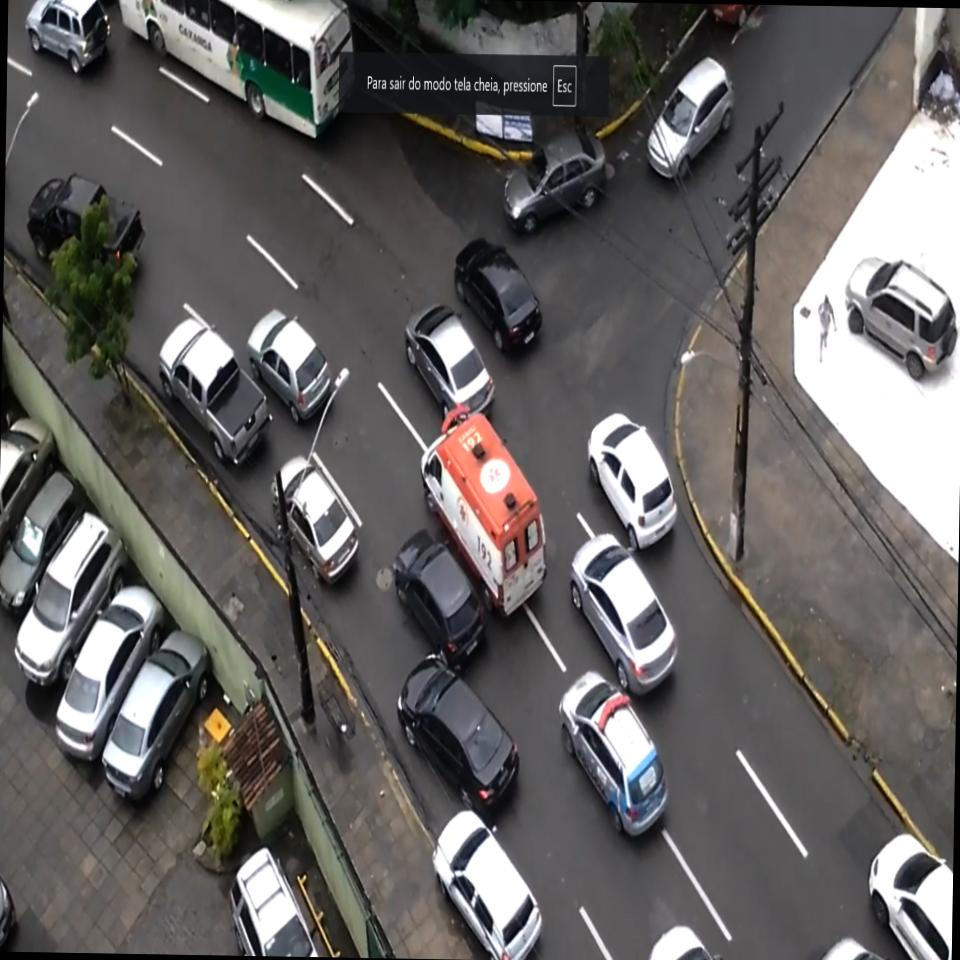bombeiro: (417, 403, 551, 624)
